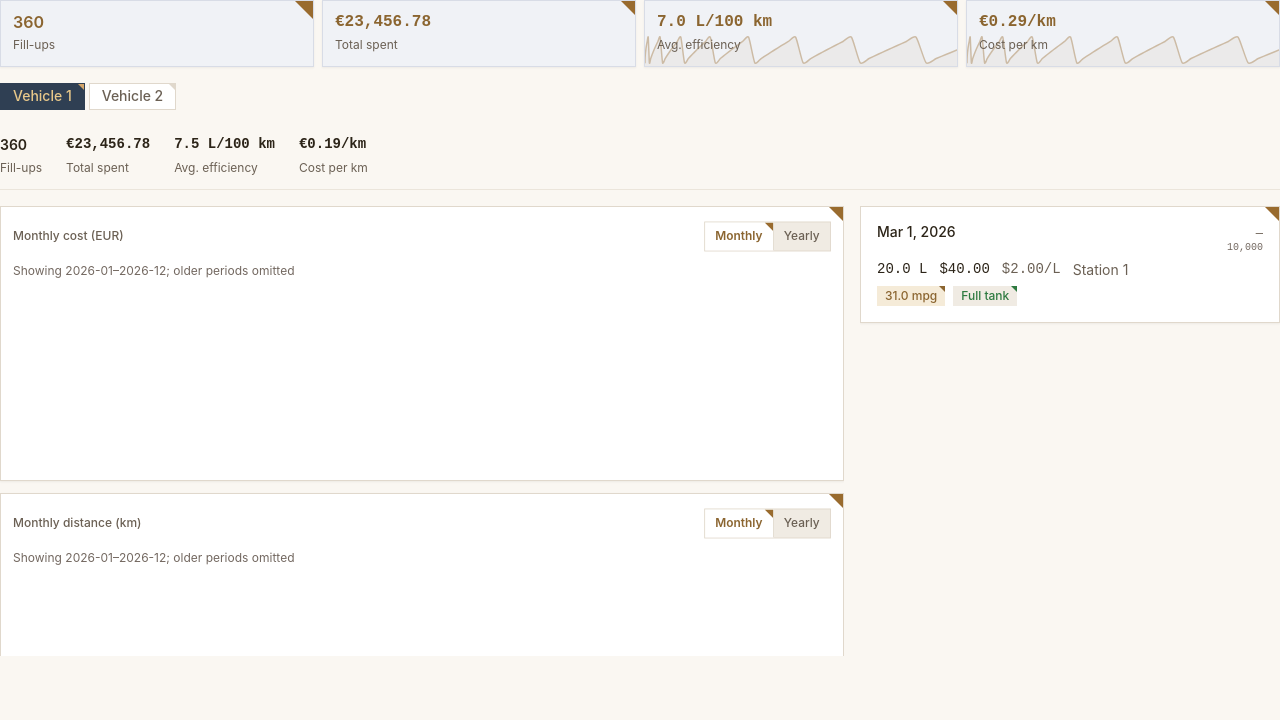
Test: dashboard fill-up mutation refreshes › does not refresh after failed update
Click the button with class "fillup-card".
click(1070, 264)  # box [860,206,1279,323]
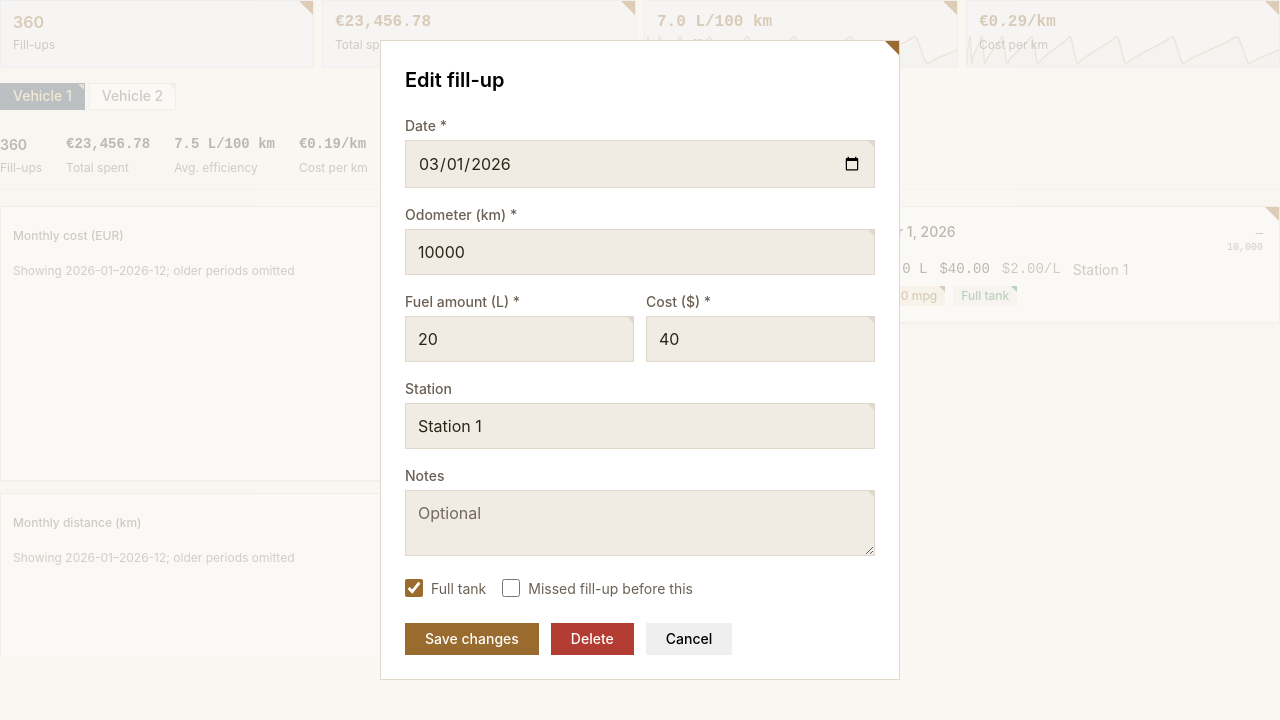
Submit the form with id "fillup-form", box [405,115,875,655]
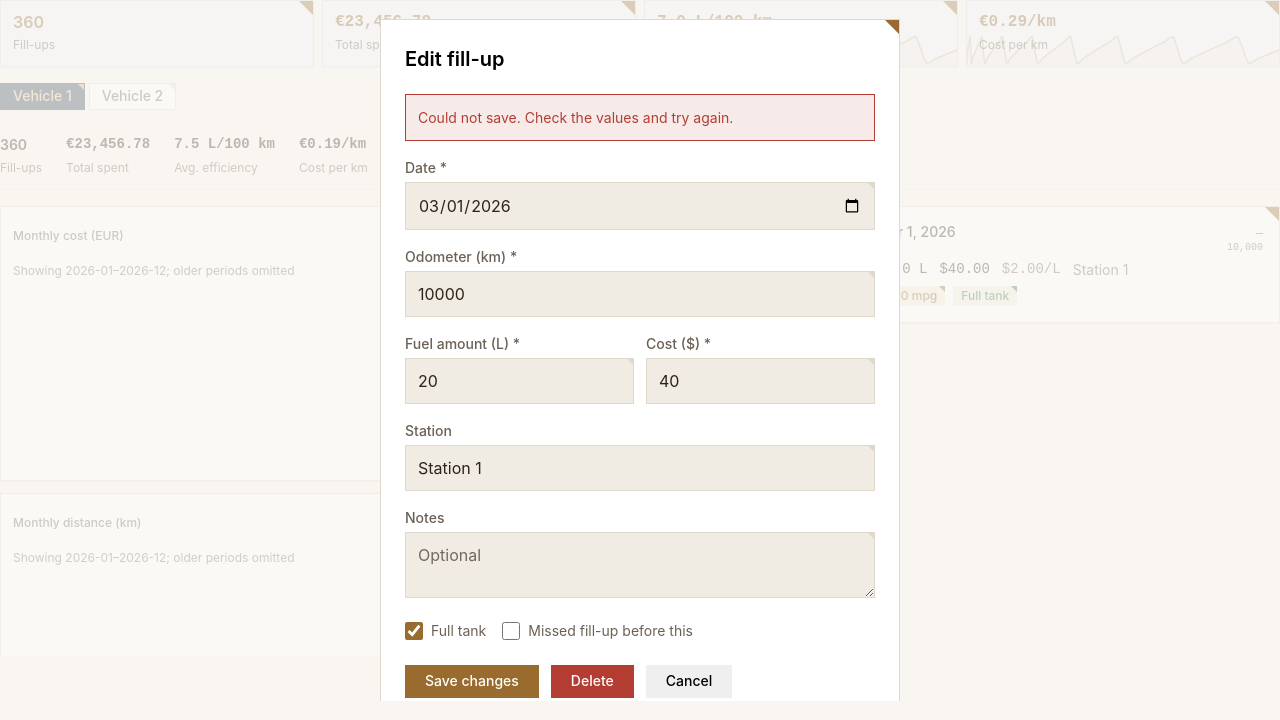
Check: the text "Could not save. Check the values and try again." is shown, box [405,94,875,141]
